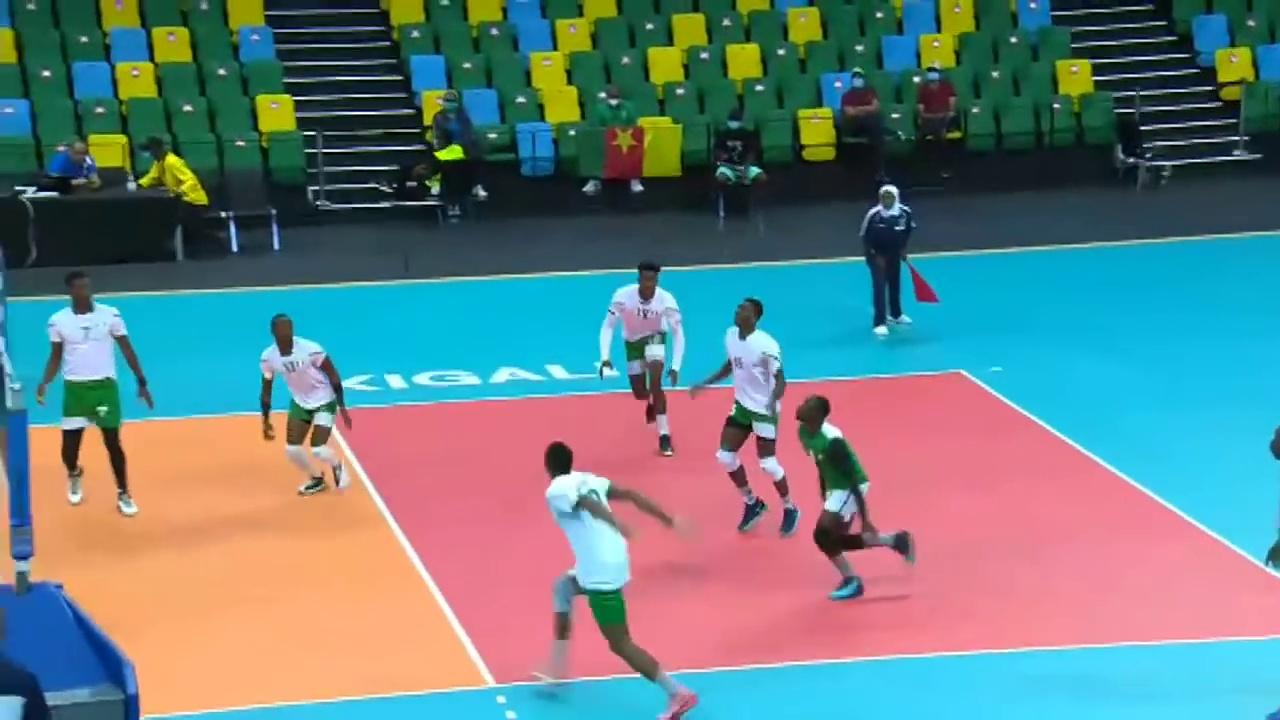player: (527, 441, 700, 720), (37, 270, 159, 519), (796, 394, 918, 608), (696, 297, 796, 542), (598, 257, 690, 462), (255, 312, 356, 497)
refree: (858, 186, 933, 335)
